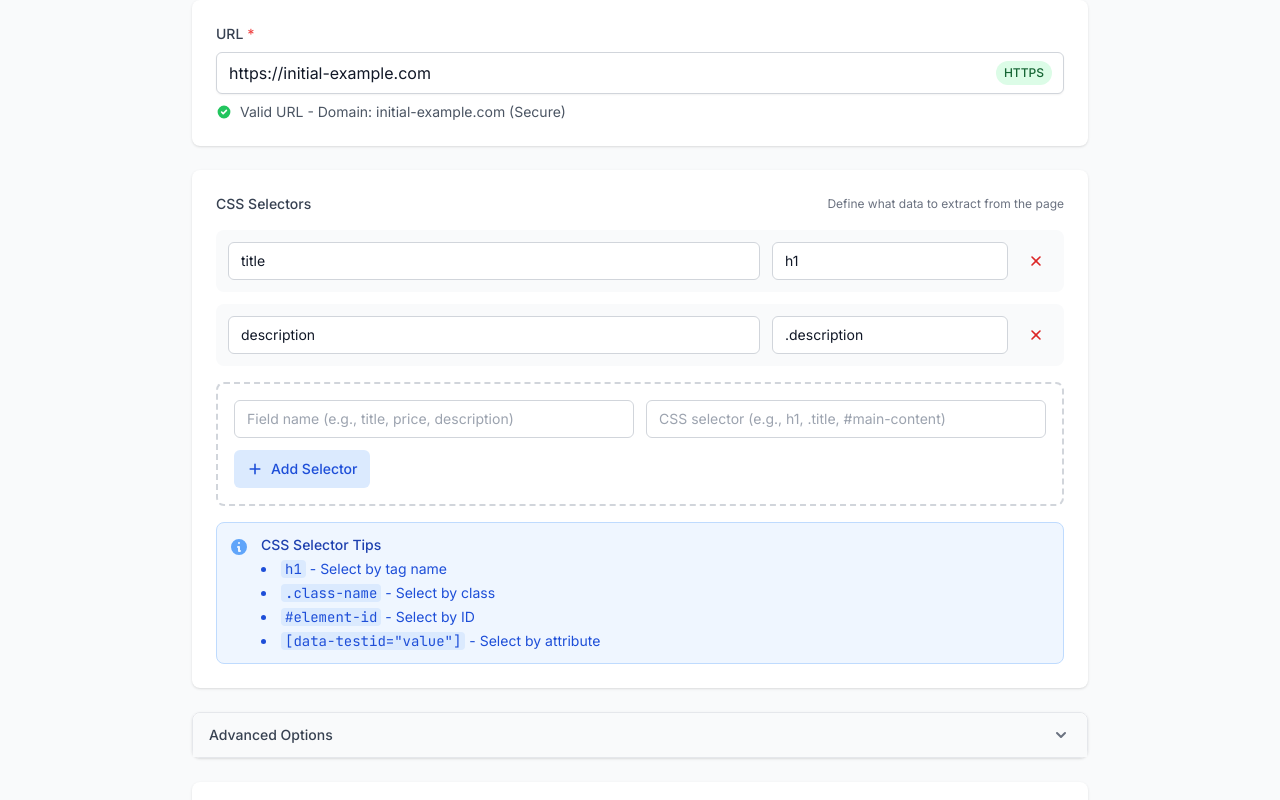
Scenario: JobForm › with initialValues › preserves initial values when form is reset
Change the URL
Replace the text in the field showing "https://initial-example.com" with "https://changed.com" at (640,73), box [216,52,1064,94]
(page scrolled)
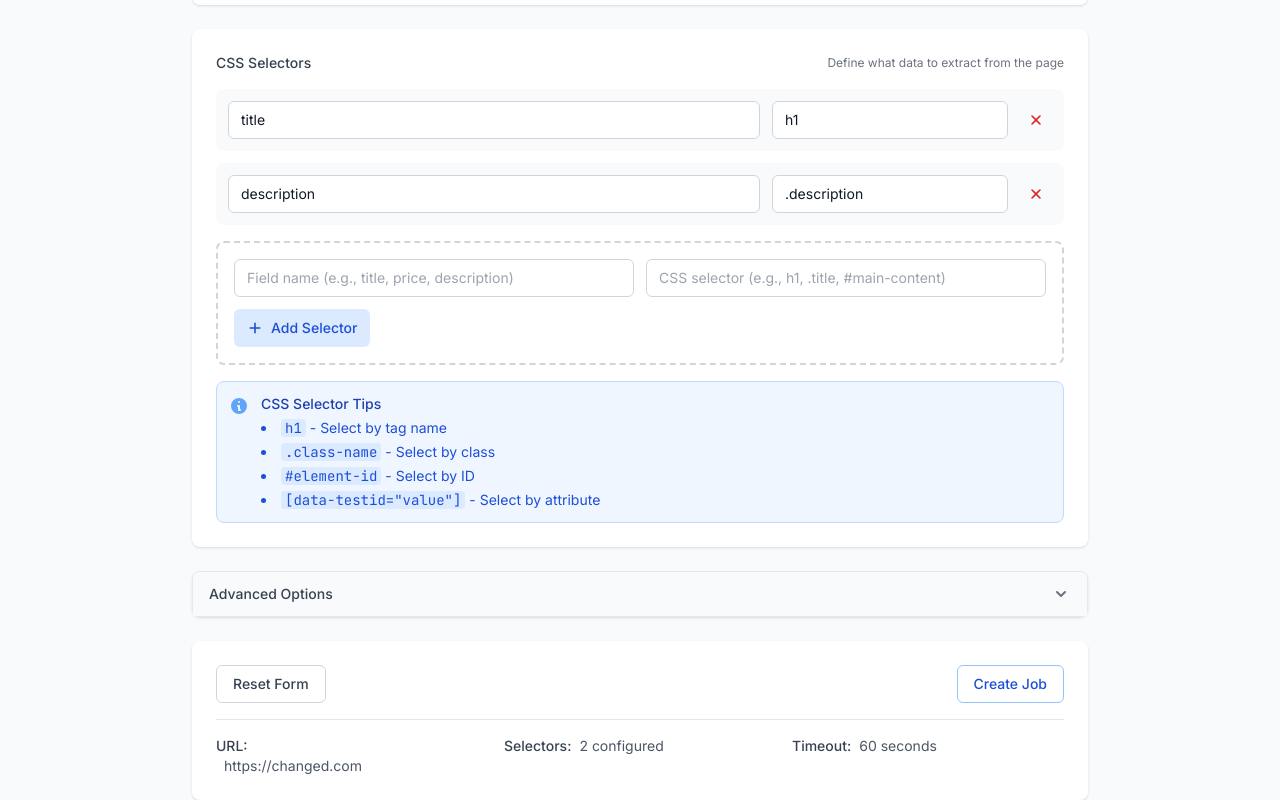
Reset the form
Click the button "Reset Form" at (271,684), box [216,665,326,703]
(page scrolled)
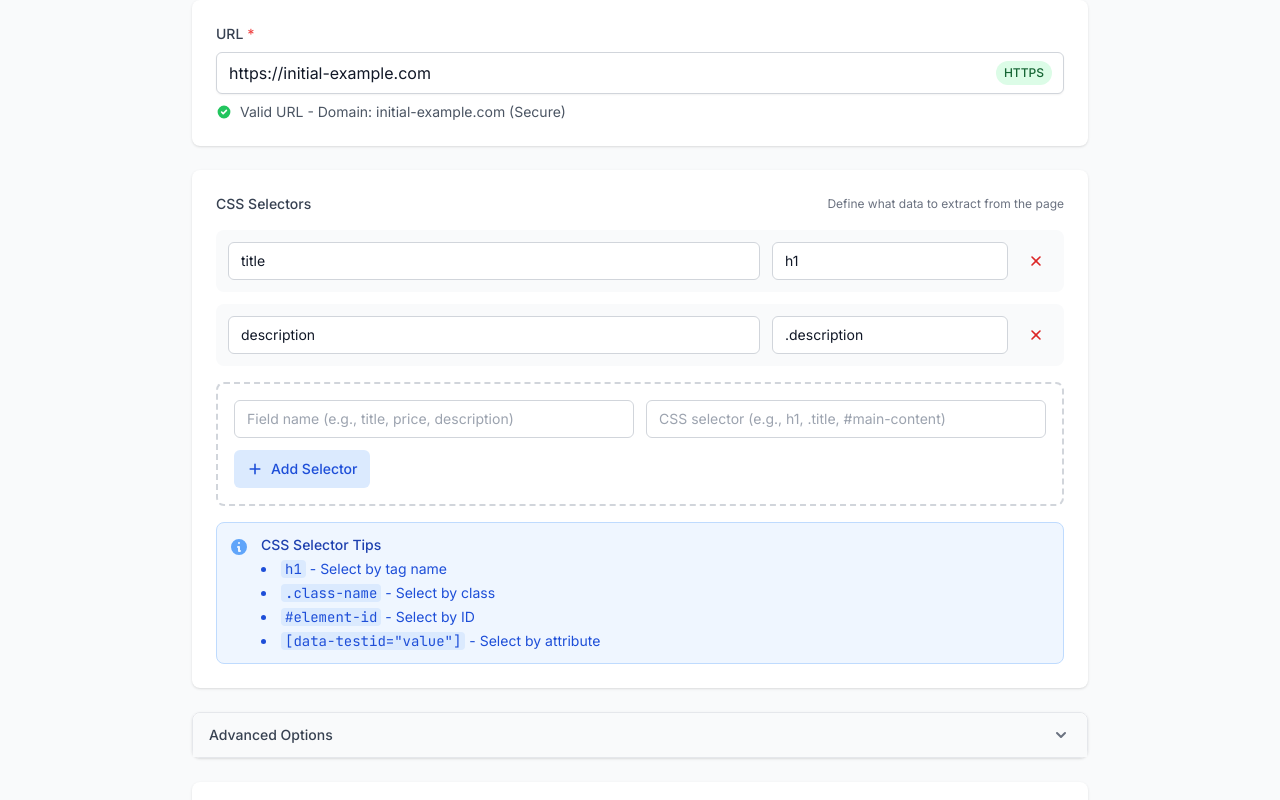
Expected: the field showing "https://initial-example.com" is shown, [216,52,1064,94]
